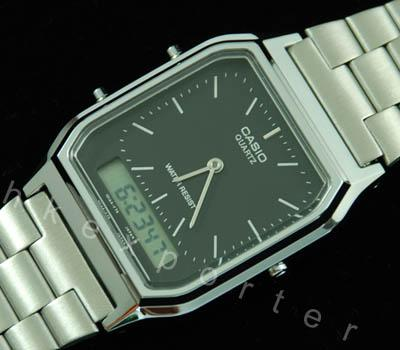watch: (35, 30, 370, 319)
